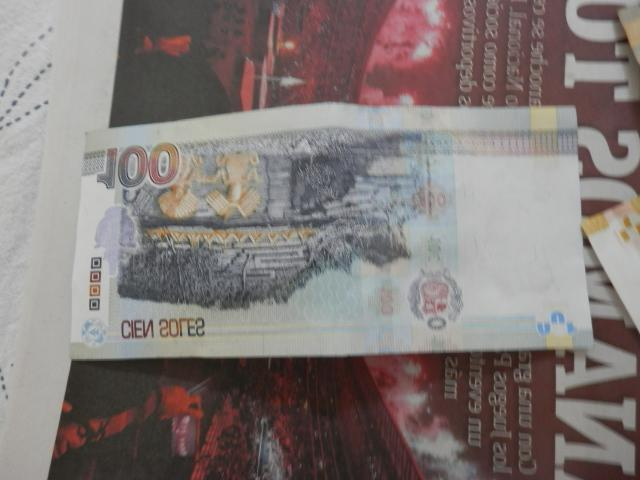B100: (69, 104, 591, 357)
